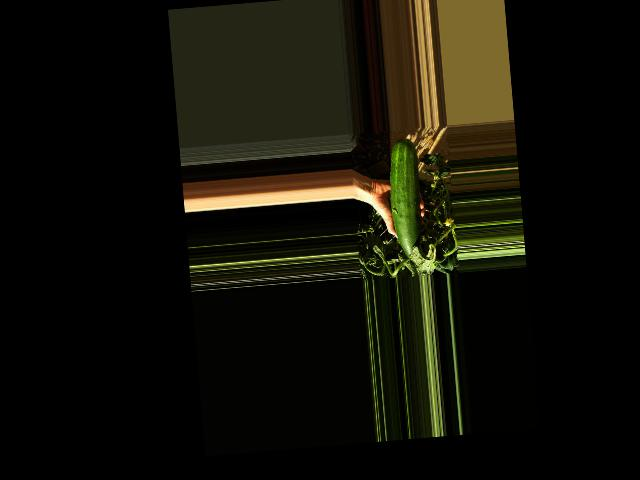cucumber: (385, 136, 426, 261)
